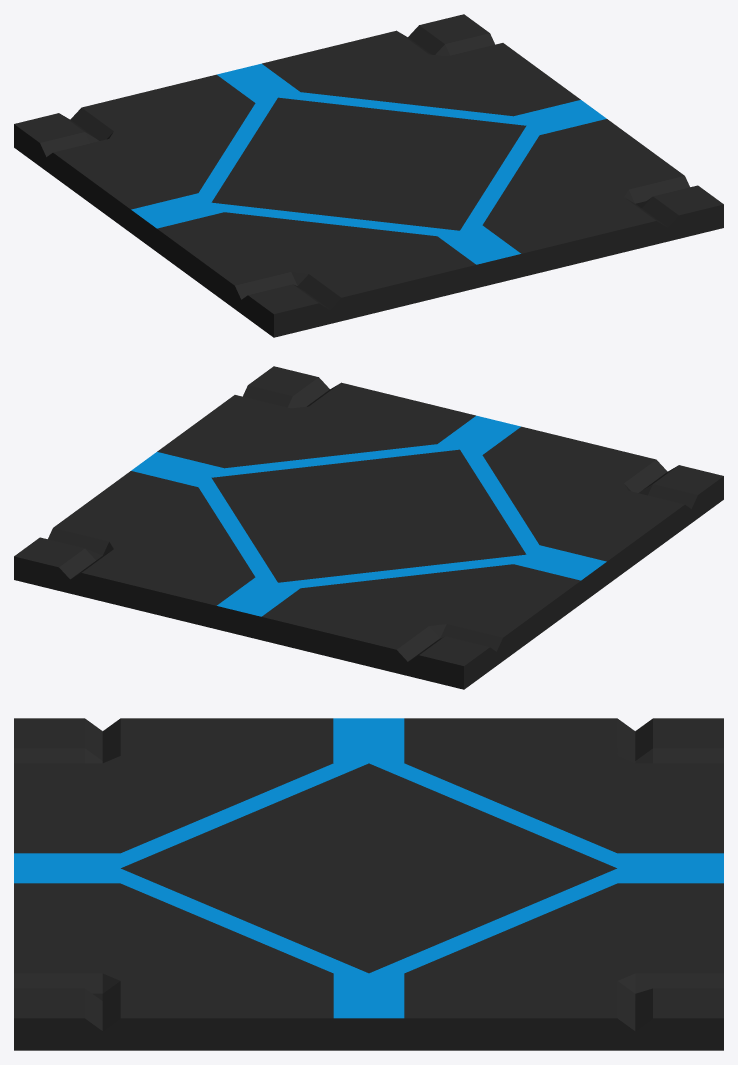
The model's file is Junction Floor.fbx.
3 views of the same model, one above another, from view 1: azimuth 30°, elevation 25°; view 2: azimuth 150°, elevation 25°; view 3: azimuth 270°, elevation 25° (orthographic). The views are drawn at different scales.
Parts seen in each view (by area): view 1: Junction Flooring.001; view 2: Junction Flooring.001; view 3: Junction Flooring.001.
Part boxes in pixels (left/top/right/bottom): Junction Flooring.001: left=14, top=14, right=723, bottom=337; Junction Flooring.001: left=14, top=366, right=723, bottom=689; Junction Flooring.001: left=14, top=718, right=723, bottom=1050.
Size of the model in its own units: 5 by 0.25 by 5.
